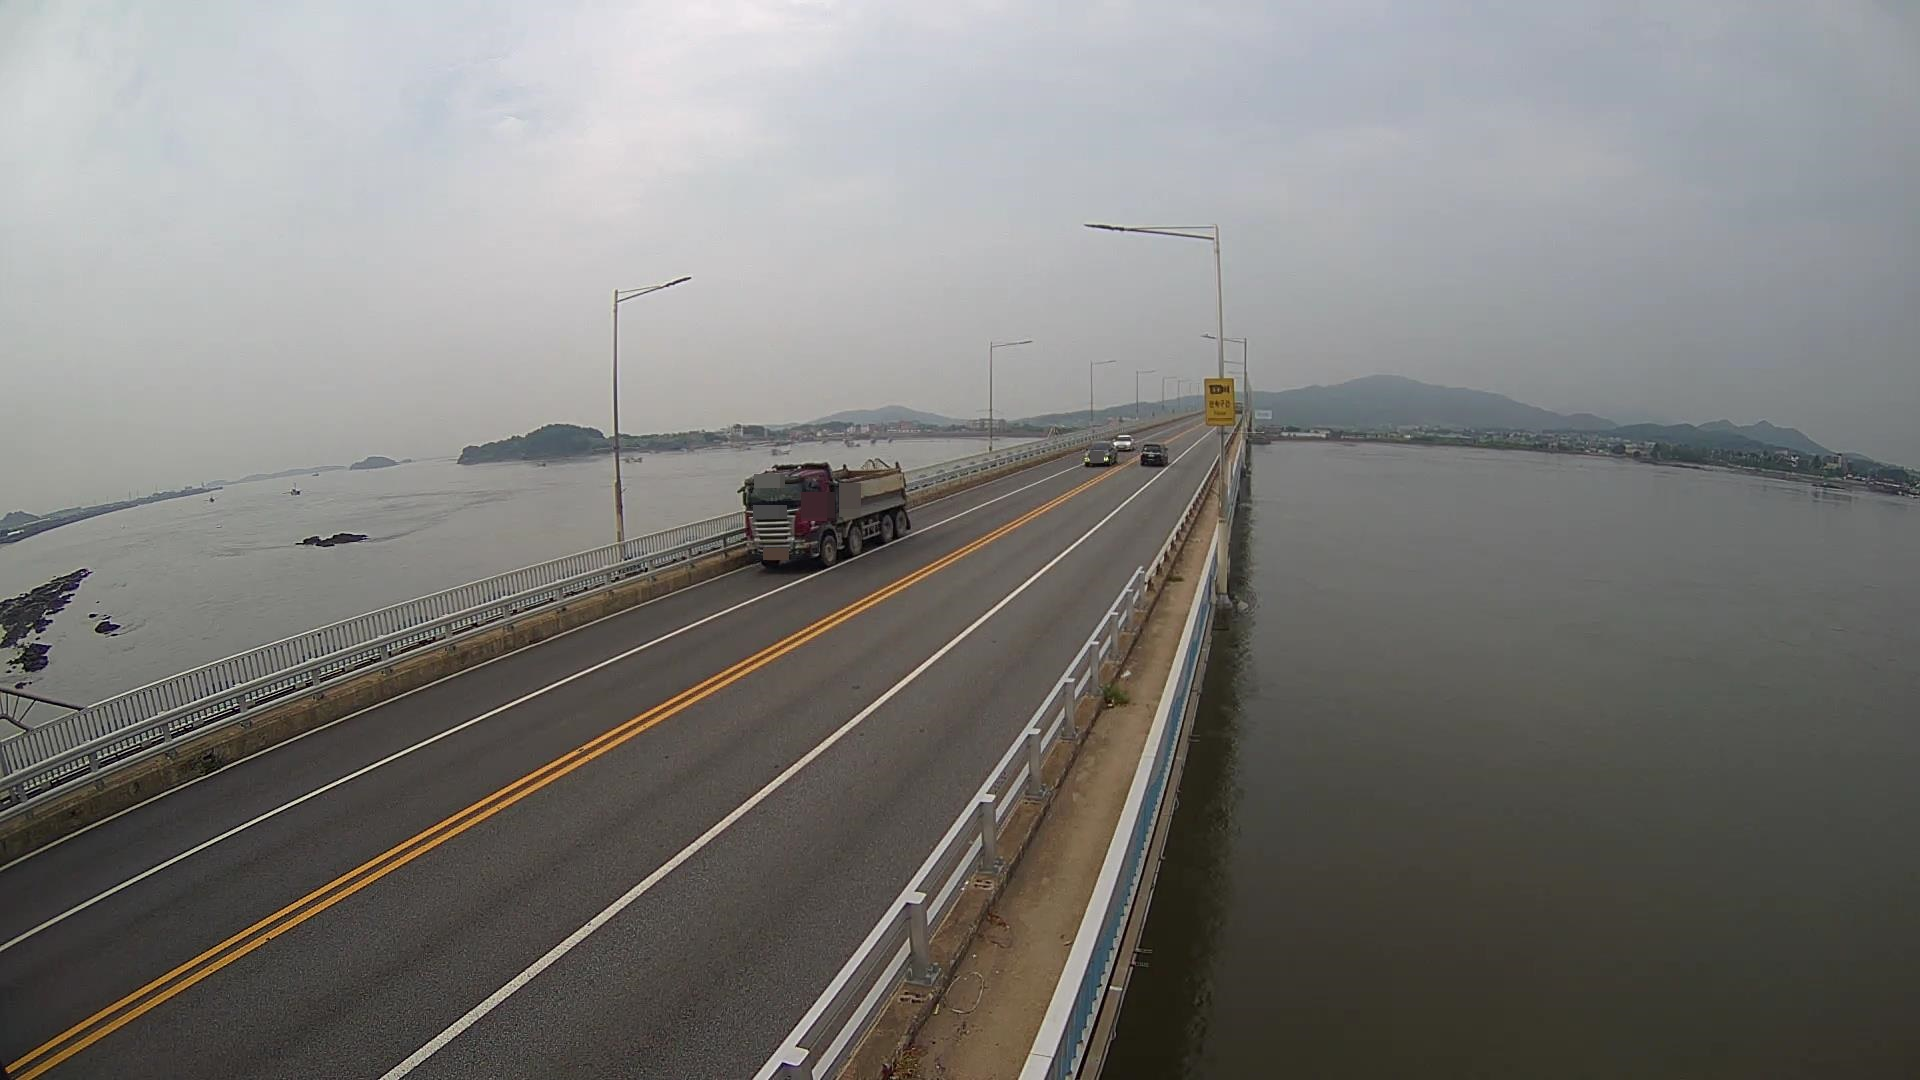정상차량: (737, 461, 912, 567)
